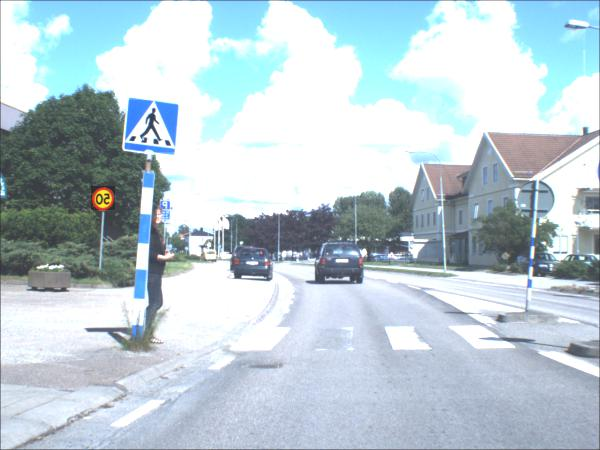50_SIGN: (91, 187, 116, 212)
PEDESTRIAN_CROSSING: (125, 101, 182, 154)
PRIORITY_ROAD: (206, 243, 212, 249)
